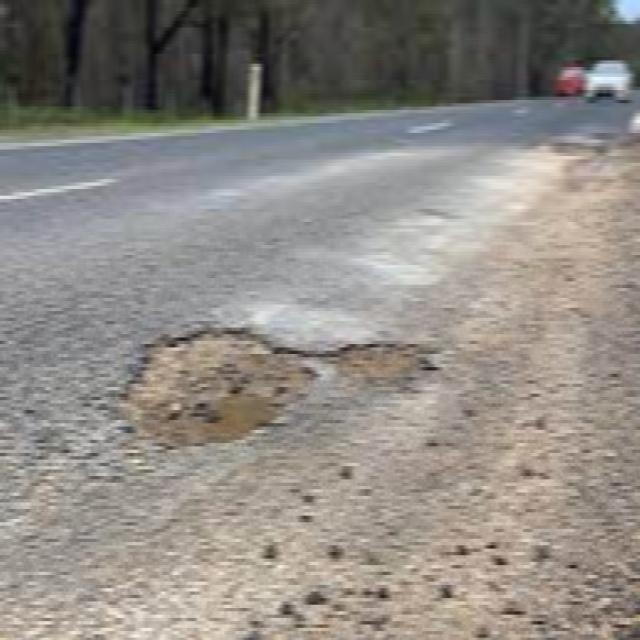Pothole: (110, 317, 320, 457), (319, 327, 431, 385)
